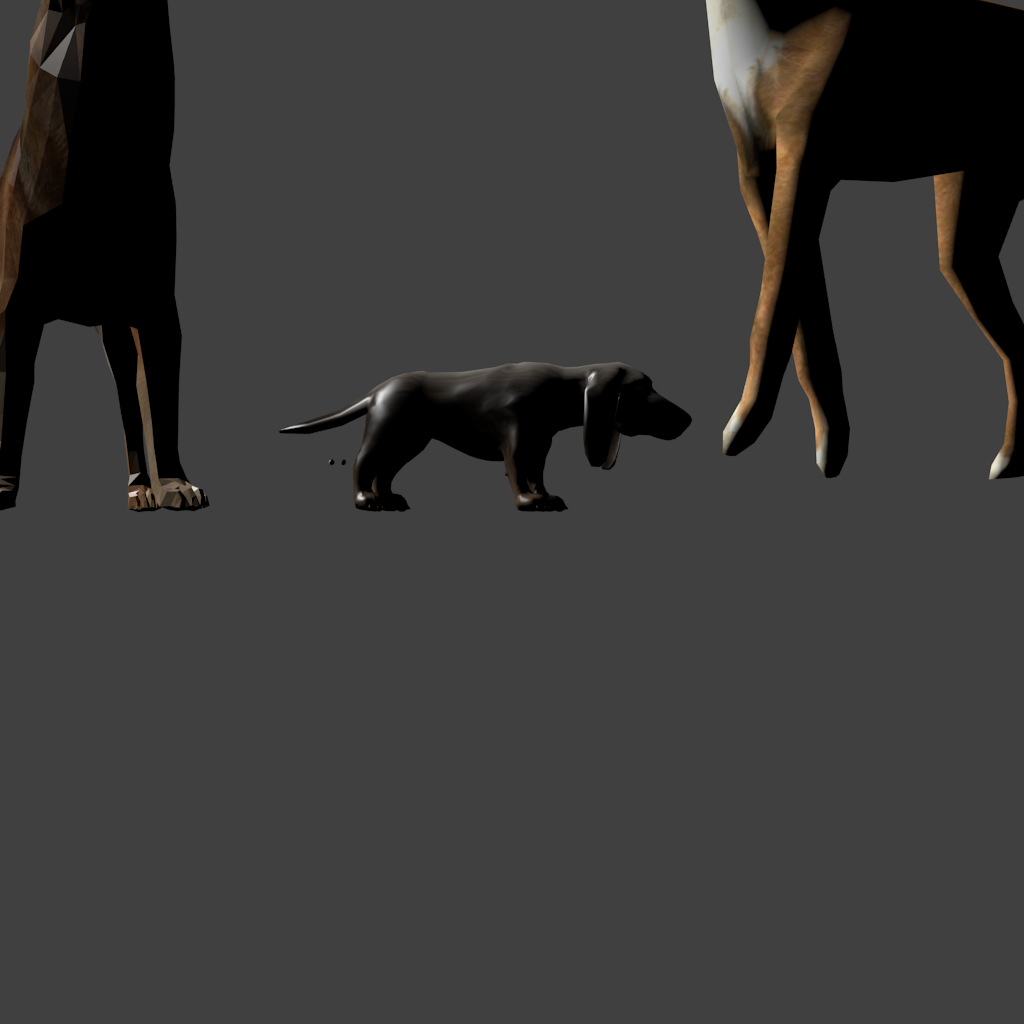Dog: (0, 0, 210, 512)
